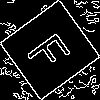F: (24, 25, 80, 76)
